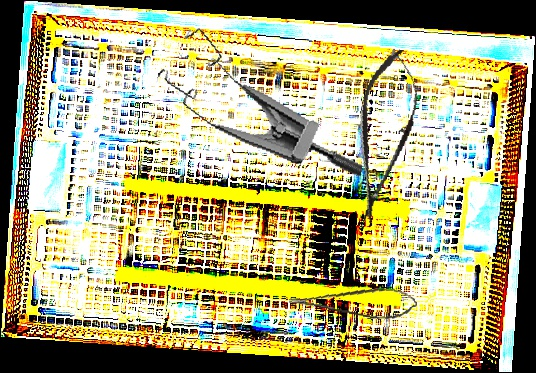Micro Scissor: (339, 44, 429, 228), (288, 274, 419, 325)
Speculum: (145, 20, 385, 181)
